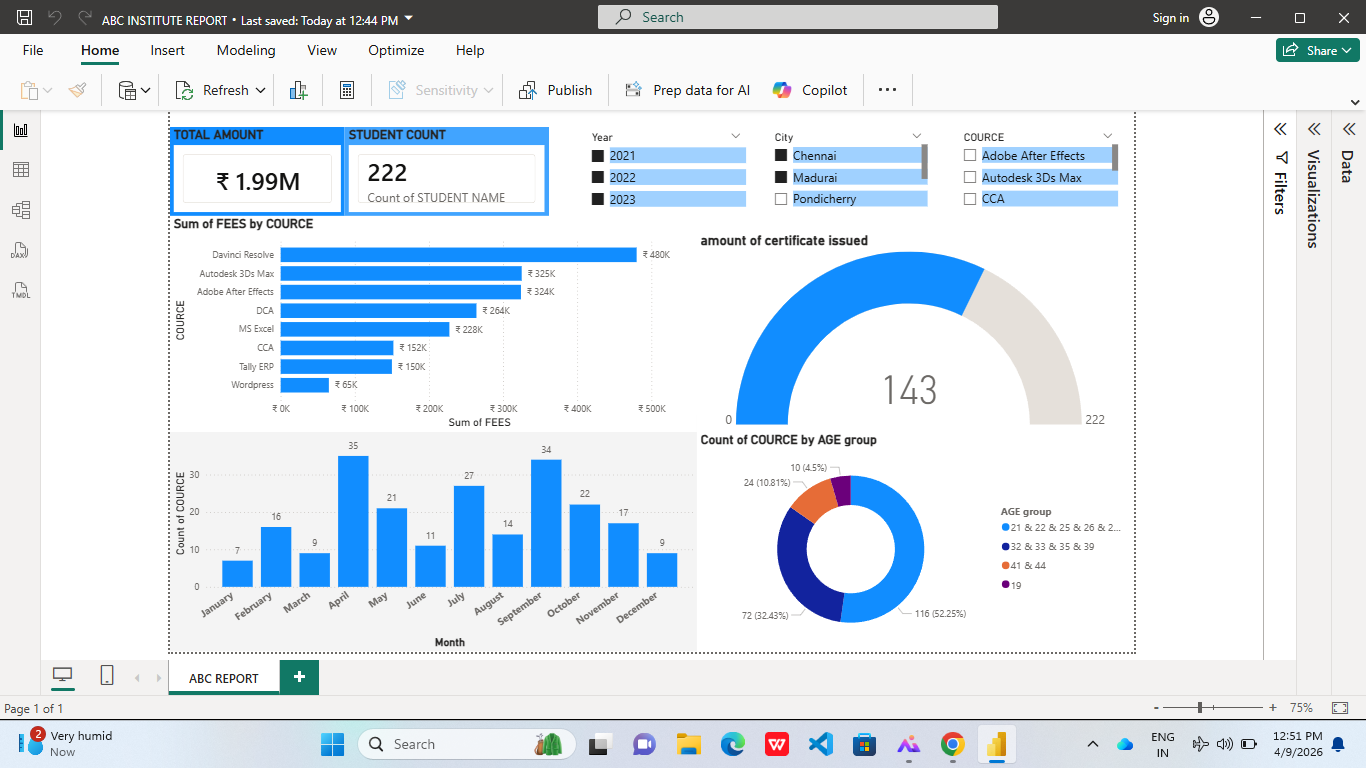

Layout of this report page (visuals, bound fields, positions):
{"tool":"powerbi","page":{"name":"ABC REPORT","canvas":[1280,720],"ordinal":0},"visuals":[{"type":"clusteredColumnChart","fields":{"Y":["CountNonNull(Student Course Details.COURCE)"],"Category":["Student Course Details.DATE.Variation.Date Hierarchy.Year","Student Course Details.DATE.Variation.Date Hierarchy.Quarter","Student Course Details.DATE.Variation.Date Hierarchy.Month","Student Course Details.DATE.Variation.Date Hierarchy.Day"]},"box":[0,405.7,700,314.3],"z":0},{"type":"donutChart","fields":{"Y":["CountNonNull(Student Course Details.COURCE)"],"Category":["Student Course Details.AGE group"]},"box":[700.1,427.7,580.5,292.3],"z":1000},{"type":"clusteredBarChart","fields":{"Category":["Student Course Details.COURCE"],"Y":["Sum(Student Course Details.FEES)"]},"box":[0,140.5,699.5,286.8],"z":2000},{"type":"cardVisual","title":"TOTAL AMOUNT","fields":{"Data":["Sum(Student Course Details.FEES)"]},"box":[0,22.6,232.5,118.2],"z":3000},{"type":"cardVisual","title":"STUDENT COUNT","fields":{"Data":["CountNonNull(Student Course Details.STUDENT NAME)"]},"box":[232.5,22.6,271,118.2],"z":4000},{"type":"gauge","title":"amount of certificate issued","fields":{"Y":["PERSNOL DETIAL.Measure"]},"box":[700,161.4,580,265.7],"z":5000},{"type":"slicer","fields":{"Values":["PERSNOL DETIAL.City"]},"box":[790.4,22.6,220.5,118.2],"z":6000},{"type":"slicer","fields":{"Values":["Student Course Details.COURCE"]},"box":[1041.5,22.6,223.2,118.2],"z":7000},{"type":"slicer","fields":{"Values":["Student Course Details.DATE.Variation.Date Hierarchy.Year"]},"box":[547.3,22.6,223.2,118.2],"z":8000}]}

Visuals, with their boxes on the page's 1280x720 design canvas (x1, y1, x2, y2). These are canvas units, not pixel positions in the 1366x768 screenshot, which may show the page scaled, cropped or inside an application window:
clusteredColumnChart - CountNonNull(Student Course Details.COURCE) x Student Course Details.DATE.Variation.Date Hierarchy.Year: x1=0, y1=406, x2=700, y2=720
donutChart - CountNonNull(Student Course Details.COURCE) x Student Course Details.AGE group: x1=700, y1=428, x2=1281, y2=720
clusteredBarChart - Student Course Details.COURCE x Sum(Student Course Details.FEES): x1=0, y1=140, x2=700, y2=427
"TOTAL AMOUNT" cardVisual: x1=0, y1=23, x2=232, y2=141
"STUDENT COUNT" cardVisual: x1=232, y1=23, x2=504, y2=141
"amount of certificate issued" gauge: x1=700, y1=161, x2=1280, y2=427
slicer - PERSNOL DETIAL.City: x1=790, y1=23, x2=1011, y2=141
slicer - Student Course Details.COURCE: x1=1042, y1=23, x2=1265, y2=141
slicer - Student Course Details.DATE.Variation.Date Hierarchy.Year: x1=547, y1=23, x2=770, y2=141
